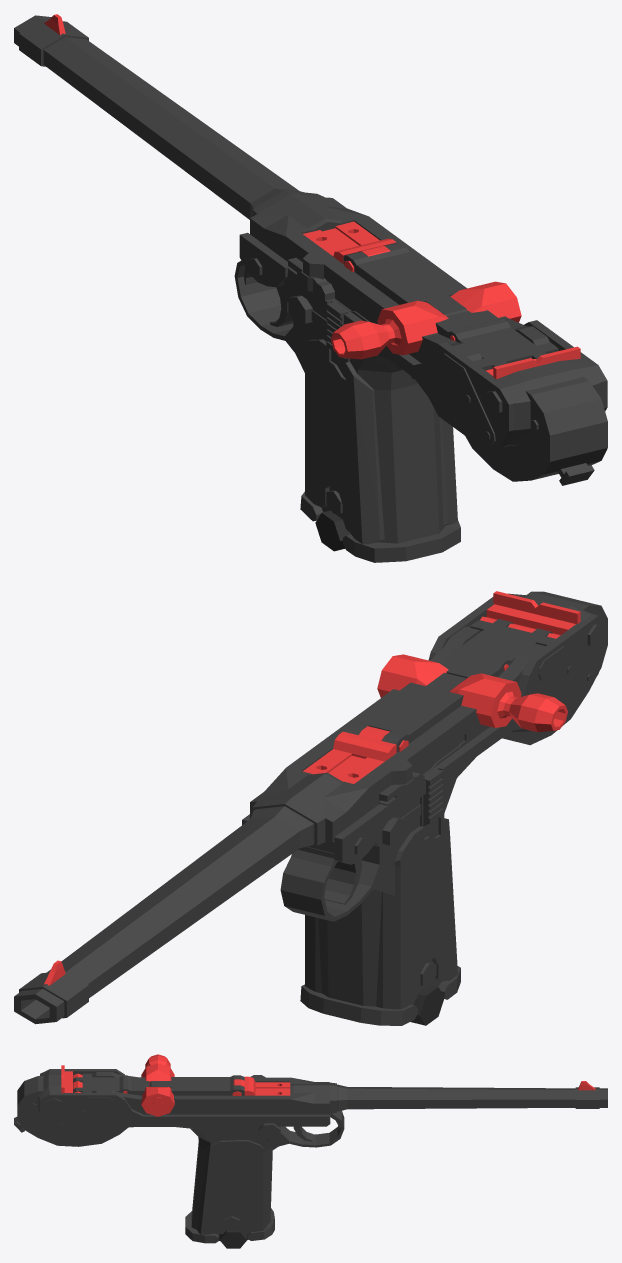
File: pistol_8.glb
3 views of the same model, one above another, from view 1: azimuth 30°, elevation 25°; view 2: azimuth 150°, elevation 25°; view 3: azimuth 270°, elevation 25° (orthographic). The views are drawn at different scales.
Visible parts, largest first — view 1: p0_paint, p6_paint, p18_paint, p33_paint, p7_paint, p26_paint, p21_paint, p29_del, p32_paint, p3_paint, p27_paint, p12_del (+10 smaller); view 2: p0_paint, p18_paint, p7_paint, p6_paint, p3_paint, p26_paint, p21_paint, p29_del, p32_paint, p12_del, p16_paint, p28_del (+13 smaller); view 3: p0_paint, p17_paint, p8_paint, p7_paint, p6_paint, p33_paint, p21_paint, p32_paint, p3_paint, p35_paint, p12_del, p28_del (+7 smaller).
Part boxes in pixels (x1,y1,x2,y2): p0_paint: (14, 15, 344, 232); p6_paint: (283, 284, 601, 543); p18_paint: (304, 339, 384, 544); p33_paint: (465, 377, 607, 481); p7_paint: (250, 197, 549, 363); p26_paint: (344, 312, 514, 449); p21_paint: (343, 242, 466, 315); p29_del: (331, 300, 448, 359); p32_paint: (435, 310, 558, 370); p3_paint: (234, 260, 307, 372); p27_paint: (343, 520, 460, 562); p12_del: (303, 221, 396, 263); p0_paint: (14, 772, 342, 1024); p18_paint: (376, 817, 457, 1009); p7_paint: (250, 626, 545, 842); p6_paint: (298, 593, 599, 1006); p3_paint: (280, 831, 394, 921); p26_paint: (435, 614, 607, 780); p21_paint: (344, 672, 466, 752); p29_del: (449, 673, 567, 732); p32_paint: (439, 619, 555, 678); p12_del: (303, 726, 396, 783); p16_paint: (300, 984, 417, 1025); p28_del: (377, 654, 448, 697); p0_paint: (290, 1082, 607, 1113); p17_paint: (196, 1140, 266, 1234); p8_paint: (40, 1093, 329, 1134); p7_paint: (92, 1072, 329, 1114); p6_paint: (38, 1070, 330, 1234); p33_paint: (17, 1076, 127, 1146); p21_paint: (149, 1075, 244, 1095); p32_paint: (73, 1073, 149, 1095); p3_paint: (273, 1110, 344, 1149); p35_paint: (54, 1097, 115, 1128); p12_del: (233, 1076, 290, 1095); p28_del: (141, 1087, 174, 1115).
Size of the model in its own units: 0.0623 by 0.103 by 0.35.
